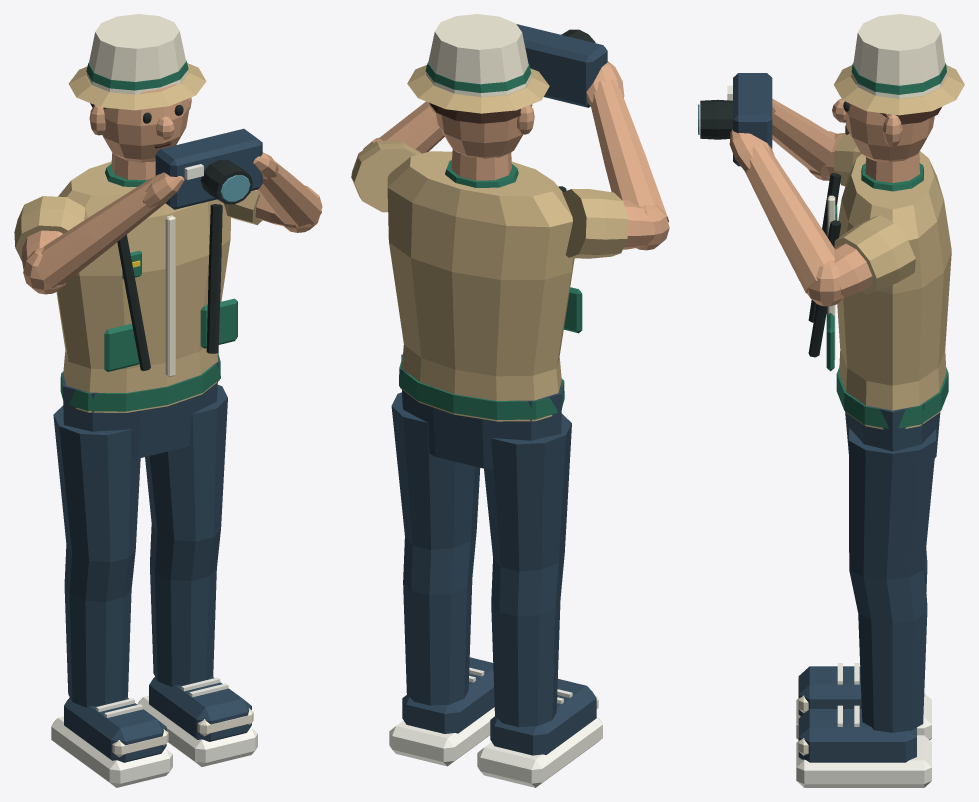
The model's file is 07-fotograf.glb.
3 renders of one model, left to right at view 1: azimuth 30°, elevation 25°; view 2: azimuth 150°, elevation 25°; view 3: azimuth 270°, elevation 25°, orthographic. The views are drawn at different scales.
Parts seen in each view (by area): view 1: Kibic_07-fotograf__Denim, Kibic_07-fotograf__Vest, Kibic_07-fotograf_ArmL__Skin, Kibic_07-fotograf__Sneakers, Kibic_07-fotograf__Las, Kibic_07-fotograf_Head__Cotton, Kibic_07-fotograf__Soles and pupils, Kibic_07-fotograf_Head__Skin, Kibic_07-fotograf_ArmR__Skin, Kibic_07-fotograf__Cotton, Kibic_07-fotograf_Head__Vest, Kibic_07-fotograf_ArmL__Vest (+4 smaller); view 2: Kibic_07-fotograf__Denim, Kibic_07-fotograf__Vest, Kibic_07-fotograf_ArmL__Skin, Kibic_07-fotograf__Sneakers, Kibic_07-fotograf_Head__Cotton, Kibic_07-fotograf__Las, Kibic_07-fotograf_ArmL__Vest, Kibic_07-fotograf_Head__Skin, Kibic_07-fotograf_Head__Vest, Kibic_07-fotograf_ArmR__Vest, Kibic_07-fotograf_ArmR__Skin, Kibic_07-fotograf__Skin (+2 smaller); view 3: Kibic_07-fotograf__Denim, Kibic_07-fotograf__Vest, Kibic_07-fotograf_ArmR__Skin, Kibic_07-fotograf_Head__Cotton, Kibic_07-fotograf__Sneakers, Kibic_07-fotograf_Head__Skin, Kibic_07-fotograf_ArmR__Vest, Kibic_07-fotograf__Las, Kibic_07-fotograf_ArmL__Skin, Kibic_07-fotograf_Head__Vest, Kibic_07-fotograf__Soles and pupils, Kibic_07-fotograf__Skin (+3 smaller).
Boxes of the visible parts, x1,y1,x2,y2 form: Kibic_07-fotograf__Denim: [53, 128, 262, 762]; Kibic_07-fotograf__Vest: [56, 161, 230, 412]; Kibic_07-fotograf_ArmL__Skin: [21, 172, 184, 294]; Kibic_07-fotograf__Sneakers: [51, 164, 257, 787]; Kibic_07-fotograf__Las: [60, 164, 237, 411]; Kibic_07-fotograf_Head__Cotton: [86, 14, 188, 94]; Kibic_07-fotograf__Soles and pupils: [117, 160, 252, 370]; Kibic_07-fotograf_Head__Skin: [89, 84, 191, 162]; Kibic_07-fotograf_ArmR__Skin: [253, 152, 322, 232]; Kibic_07-fotograf__Cotton: [112, 215, 253, 757]; Kibic_07-fotograf_Head__Vest: [68, 63, 206, 110]; Kibic_07-fotograf_ArmL__Vest: [14, 196, 87, 261]; Kibic_07-fotograf__Denim: [391, 24, 607, 755]; Kibic_07-fotograf__Vest: [387, 151, 574, 421]; Kibic_07-fotograf_ArmL__Skin: [586, 61, 669, 250]; Kibic_07-fotograf__Sneakers: [389, 667, 602, 787]; Kibic_07-fotograf_Head__Cotton: [425, 14, 530, 96]; Kibic_07-fotograf__Las: [399, 160, 582, 419]; Kibic_07-fotograf_ArmL__Vest: [562, 189, 628, 258]; Kibic_07-fotograf_Head__Skin: [430, 104, 534, 158]; Kibic_07-fotograf_Head__Vest: [407, 65, 549, 113]; Kibic_07-fotograf_ArmR__Vest: [351, 140, 421, 212]; Kibic_07-fotograf_ArmR__Skin: [363, 101, 444, 153]; Kibic_07-fotograf__Skin: [451, 149, 511, 180]; Kibic_07-fotograf__Denim: [733, 73, 940, 762]; Kibic_07-fotograf__Vest: [837, 151, 951, 429]; Kibic_07-fotograf_ArmR__Skin: [729, 129, 872, 306]; Kibic_07-fotograf_Head__Cotton: [852, 14, 946, 98]; Kibic_07-fotograf__Sneakers: [727, 85, 931, 787]; Kibic_07-fotograf_Head__Skin: [832, 74, 934, 162]; Kibic_07-fotograf_ArmR__Vest: [834, 215, 915, 294]; Kibic_07-fotograf__Las: [826, 163, 948, 428]; Kibic_07-fotograf_ArmL__Skin: [772, 98, 844, 180]; Kibic_07-fotograf_Head__Vest: [834, 65, 964, 115]; Kibic_07-fotograf__Soles and pupils: [700, 99, 841, 357]; Kibic_07-fotograf__Skin: [865, 152, 919, 182].
Bounding box in the file's own units: 0.7963 × 1.84 × 0.6161.
